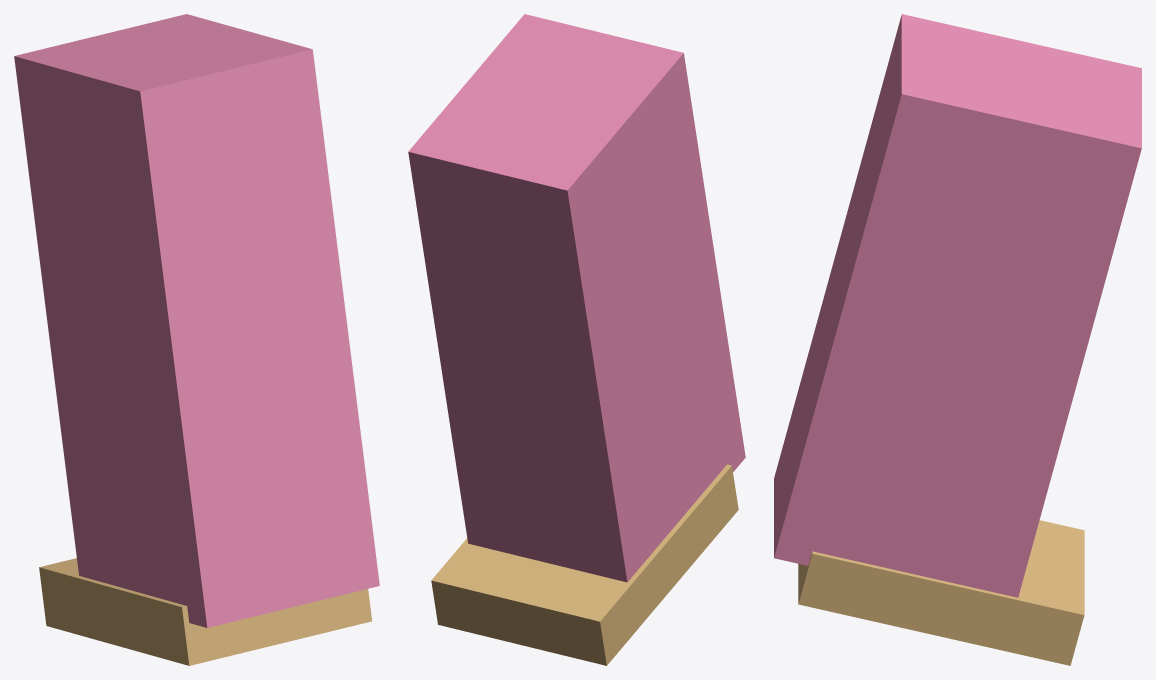
File: RubberGrip.obj
The picture shows the model from 3 angles, left to right: view 1: azimuth 30°, elevation 25°; view 2: azimuth 150°, elevation 25°; view 3: azimuth 270°, elevation 25°; orthographic projection. The views are drawn at different scales.
Parts seen in each view (by area): view 1: RubberGrip_Body, RubberGrip_Detail; view 2: RubberGrip_Body, RubberGrip_Detail; view 3: RubberGrip_Body, RubberGrip_Detail.
Part boxes in pixels (box(x1,y1,x2,y2)): RubberGrip_Body: box(14, 14, 379, 627); RubberGrip_Detail: box(39, 558, 371, 665); RubberGrip_Body: box(408, 14, 745, 582); RubberGrip_Detail: box(431, 464, 738, 665); RubberGrip_Body: box(774, 14, 1141, 597); RubberGrip_Detail: box(798, 520, 1084, 665).
Size of the model in its own units: 0.1219 by 0.3809 by 0.223.
